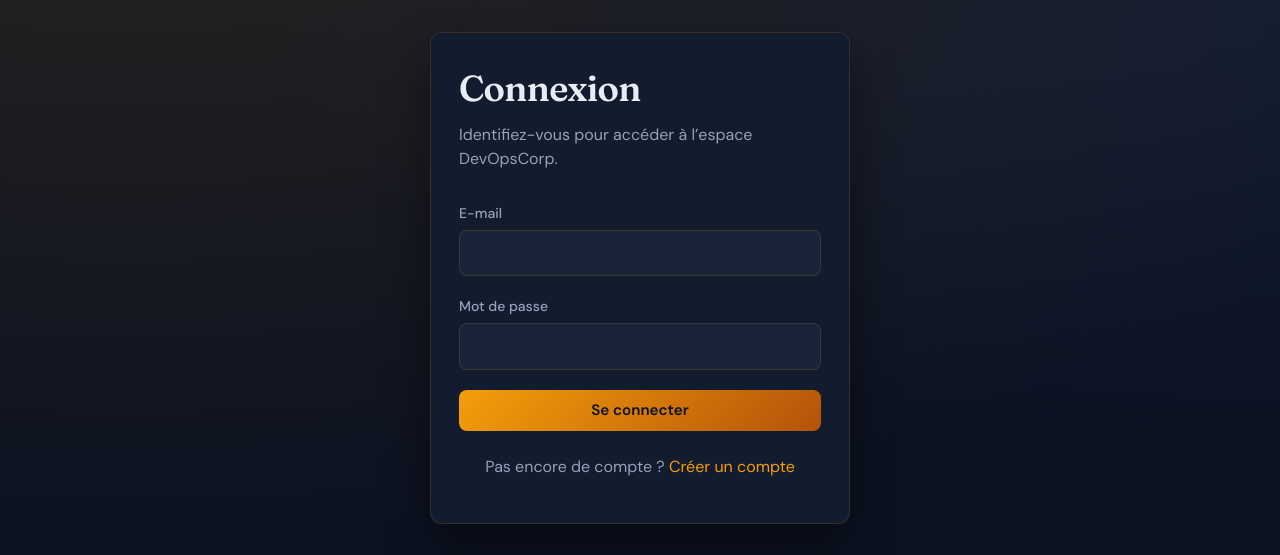
Test case: Login — soumission › désactive le bouton pendant la connexion
The width and height of the screenshot is (1280, 555).
Type "alice@example.com" into the field labelled "E-mail" at [640, 253], box [459,230,821,276]
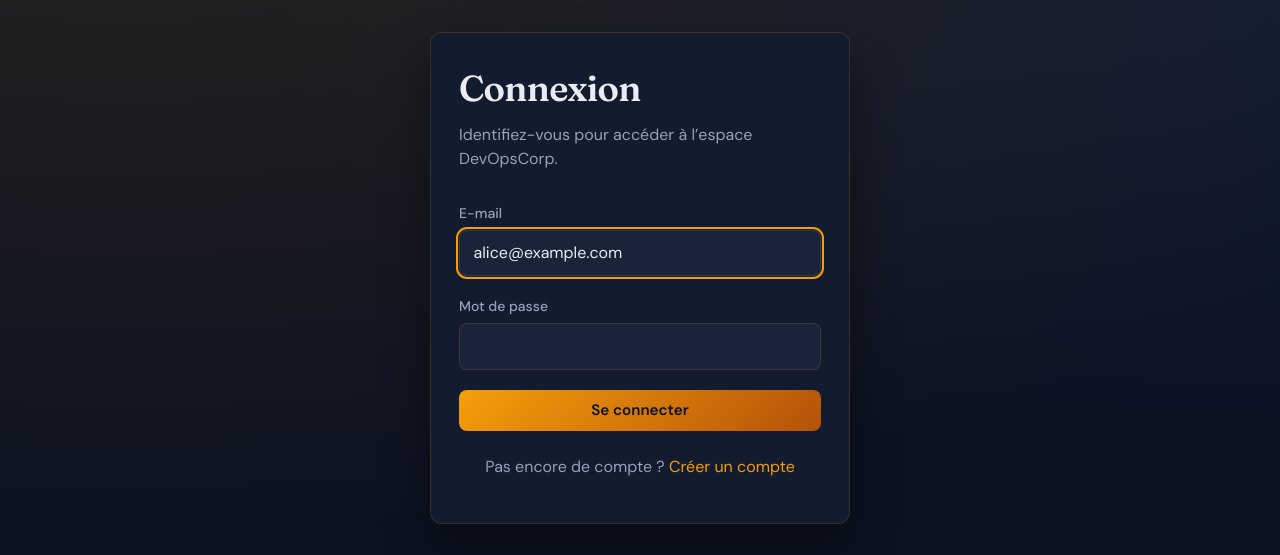
Type "password123" into the password field labelled "Mot de passe" at [640, 346], box [459,323,821,370]
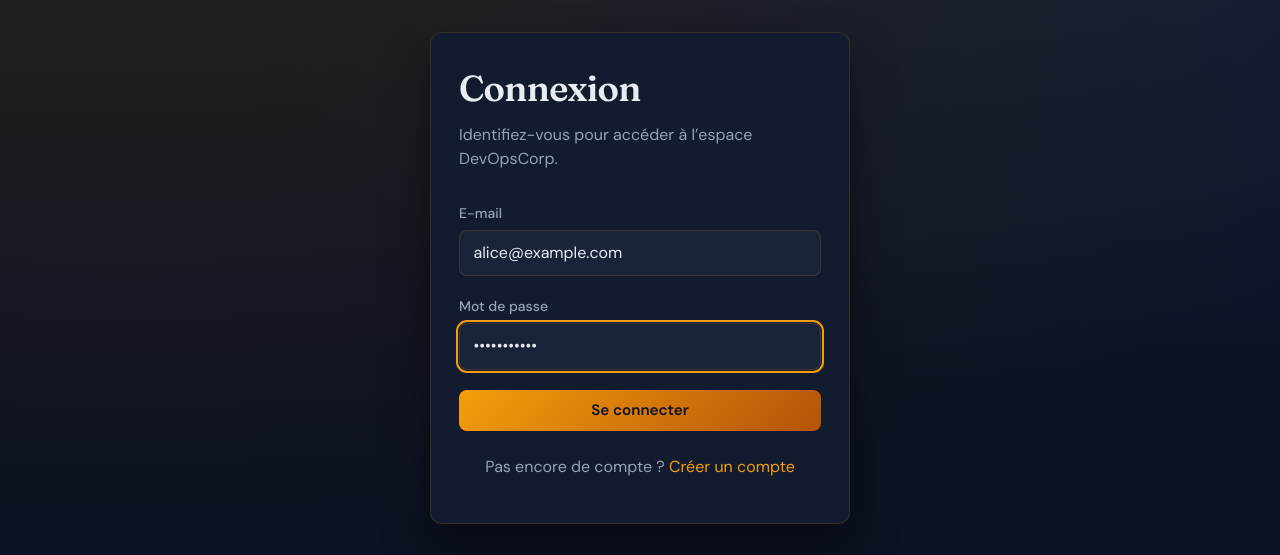
Submit the form from the button "Se connecter", box [459,390,821,431]
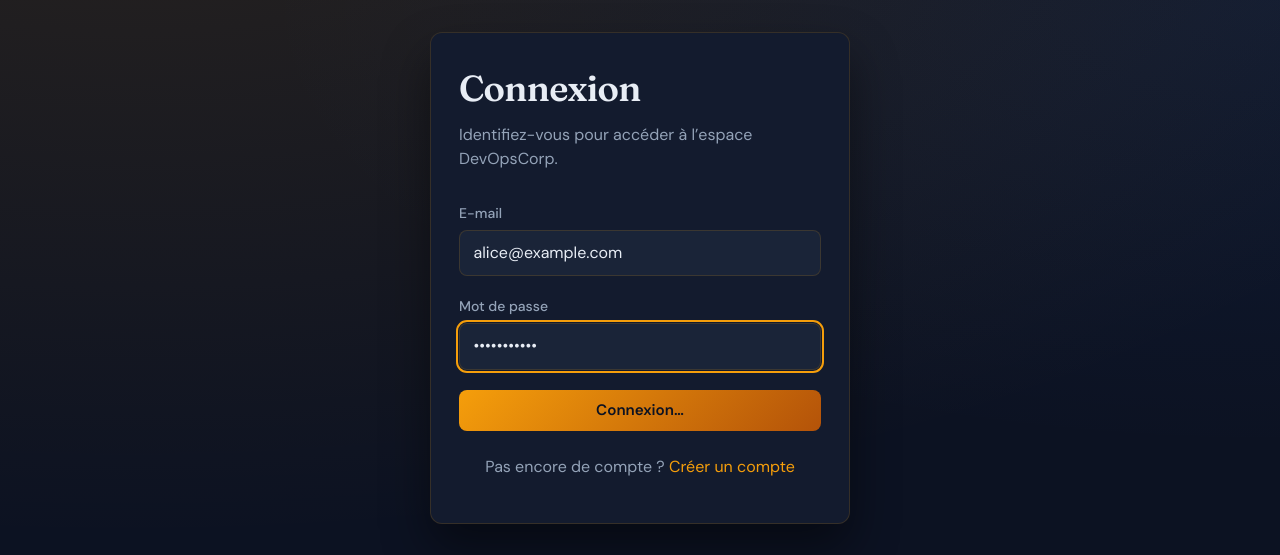
Check: the button "Connexion…" is disabled, box [459,390,821,431]
